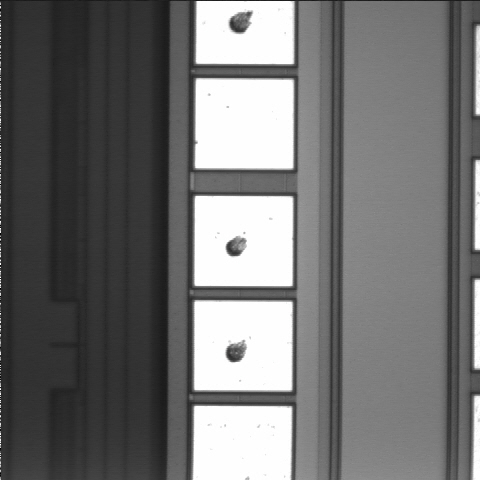pad: (195, 78, 294, 169), (194, 196, 293, 286), (194, 301, 292, 391)
